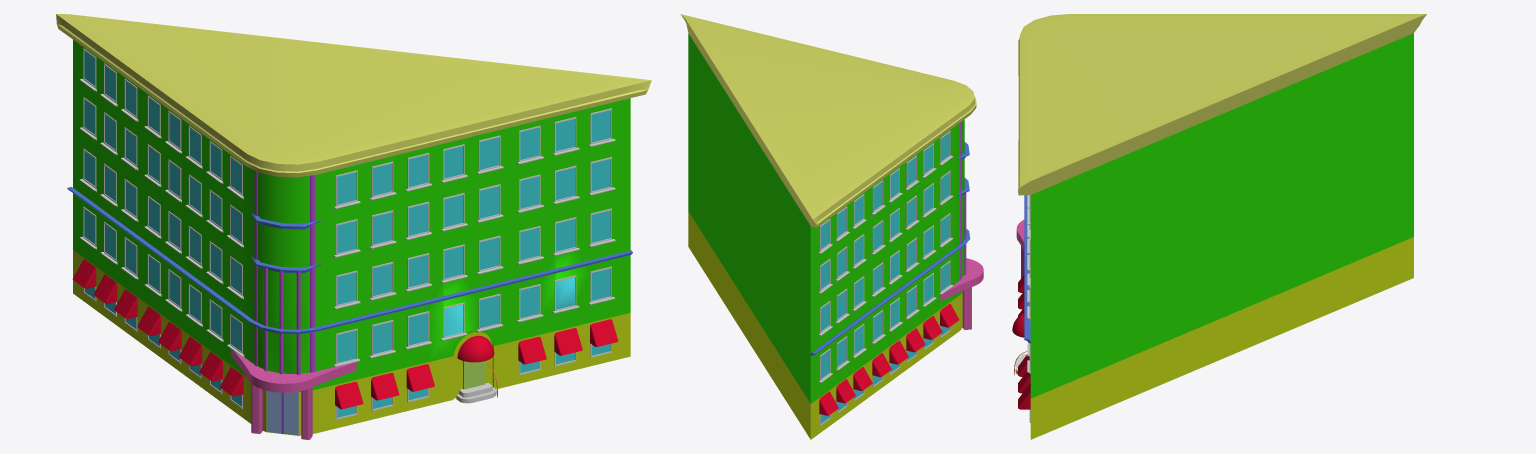
Rendered from zaobleny_dum.fbx.
The picture shows the model from 3 angles, left to right: view 1: azimuth 30°, elevation 25°; view 2: azimuth 150°, elevation 25°; view 3: azimuth 270°, elevation 25°; orthographic projection. The views are drawn at different scales.
Visible parts, largest first — view 1: Cube; view 2: Cube; view 3: Cube.
Part boxes in pixels (x1,y1,x2,y2): Cube: [56, 14, 651, 439]; Cube: [680, 14, 983, 439]; Cube: [1012, 14, 1426, 439].
Size of the model in its own units: 2070 by 1437 by 2546.
